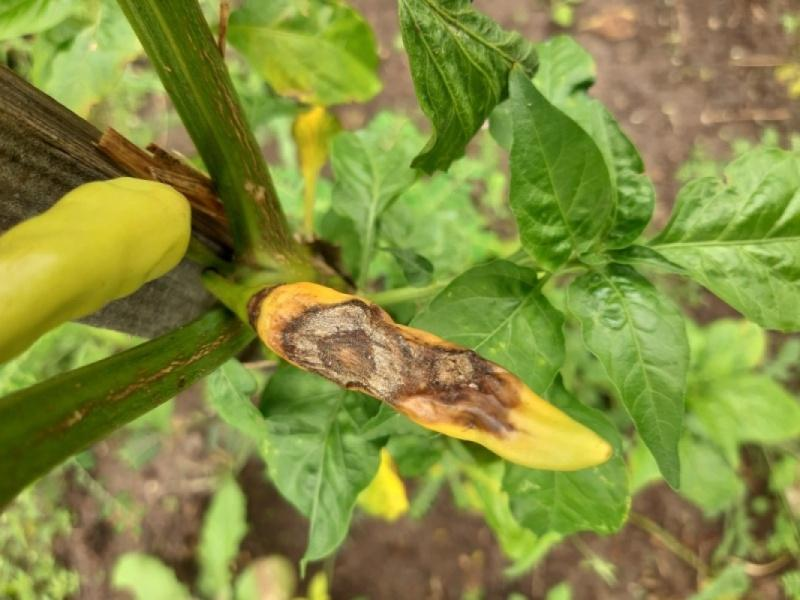antraknosa: (258, 282, 614, 472)
cabai_normal: (0, 176, 192, 368)
